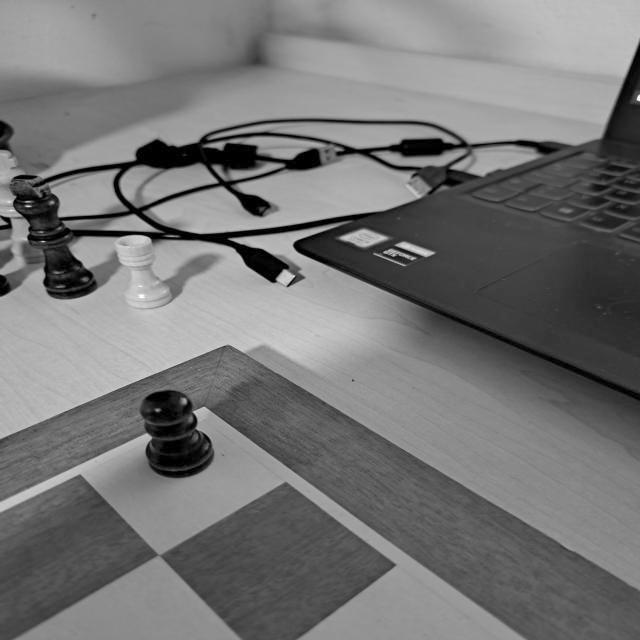chess-table-corners: (166, 394, 233, 442)
